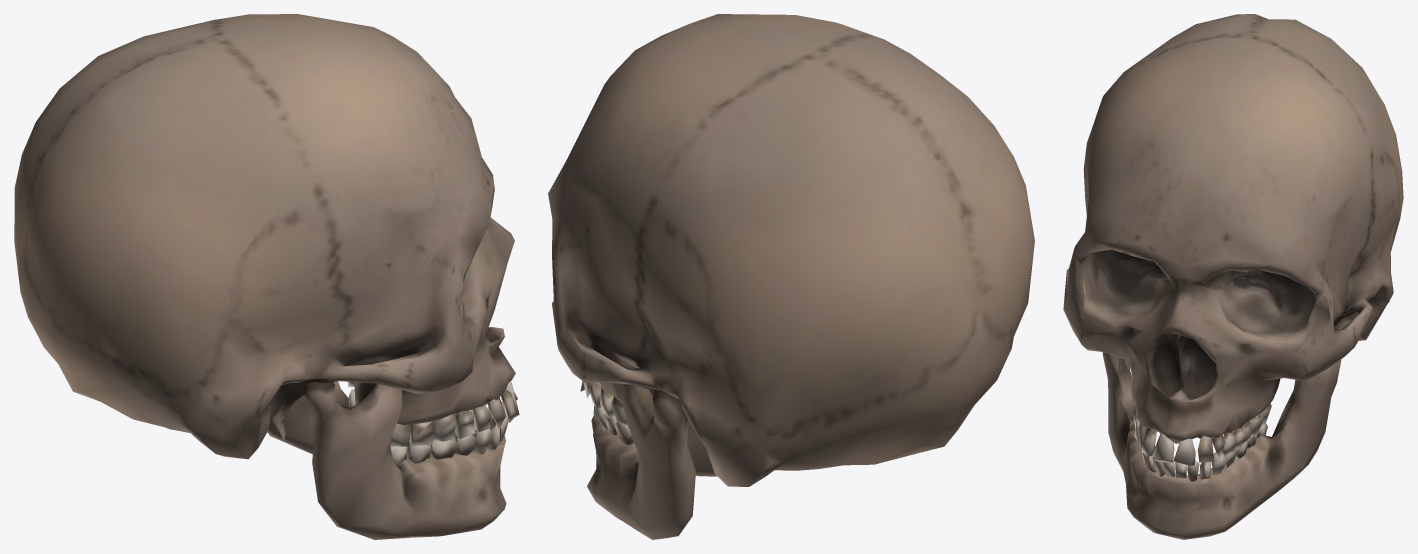
File: skull-transformed.glb
The picture shows the model from 3 angles, left to right: view 1: azimuth 30°, elevation 25°; view 2: azimuth 150°, elevation 25°; view 3: azimuth 270°, elevation 25°; orthographic projection. The views are drawn at different scales.
Parts seen in each view (by area): view 1: Skull; view 2: Skull; view 3: Skull.
Boxes of the visible parts, <box> form: Skull: <box>14,14,519,539</box>; Skull: <box>548,14,1034,539</box>; Skull: <box>1063,14,1403,539</box>.
Size of the model in its own units: 1.78 by 1.94 by 1.45.
1 material, 1 textured.
